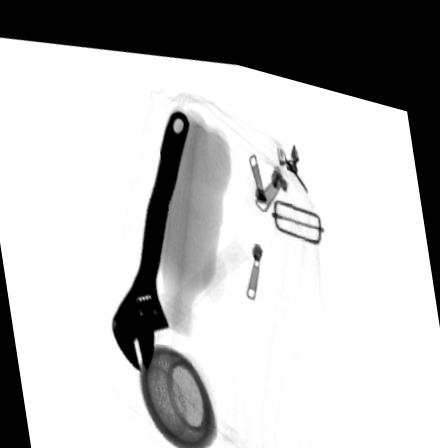Wrench: (112, 98, 191, 363)
